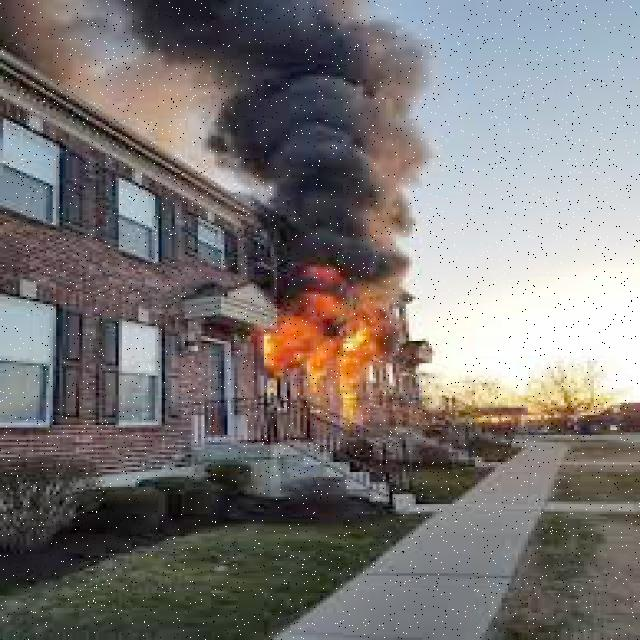fire: (260, 329, 358, 392)
smoke: (227, 18, 423, 294)
